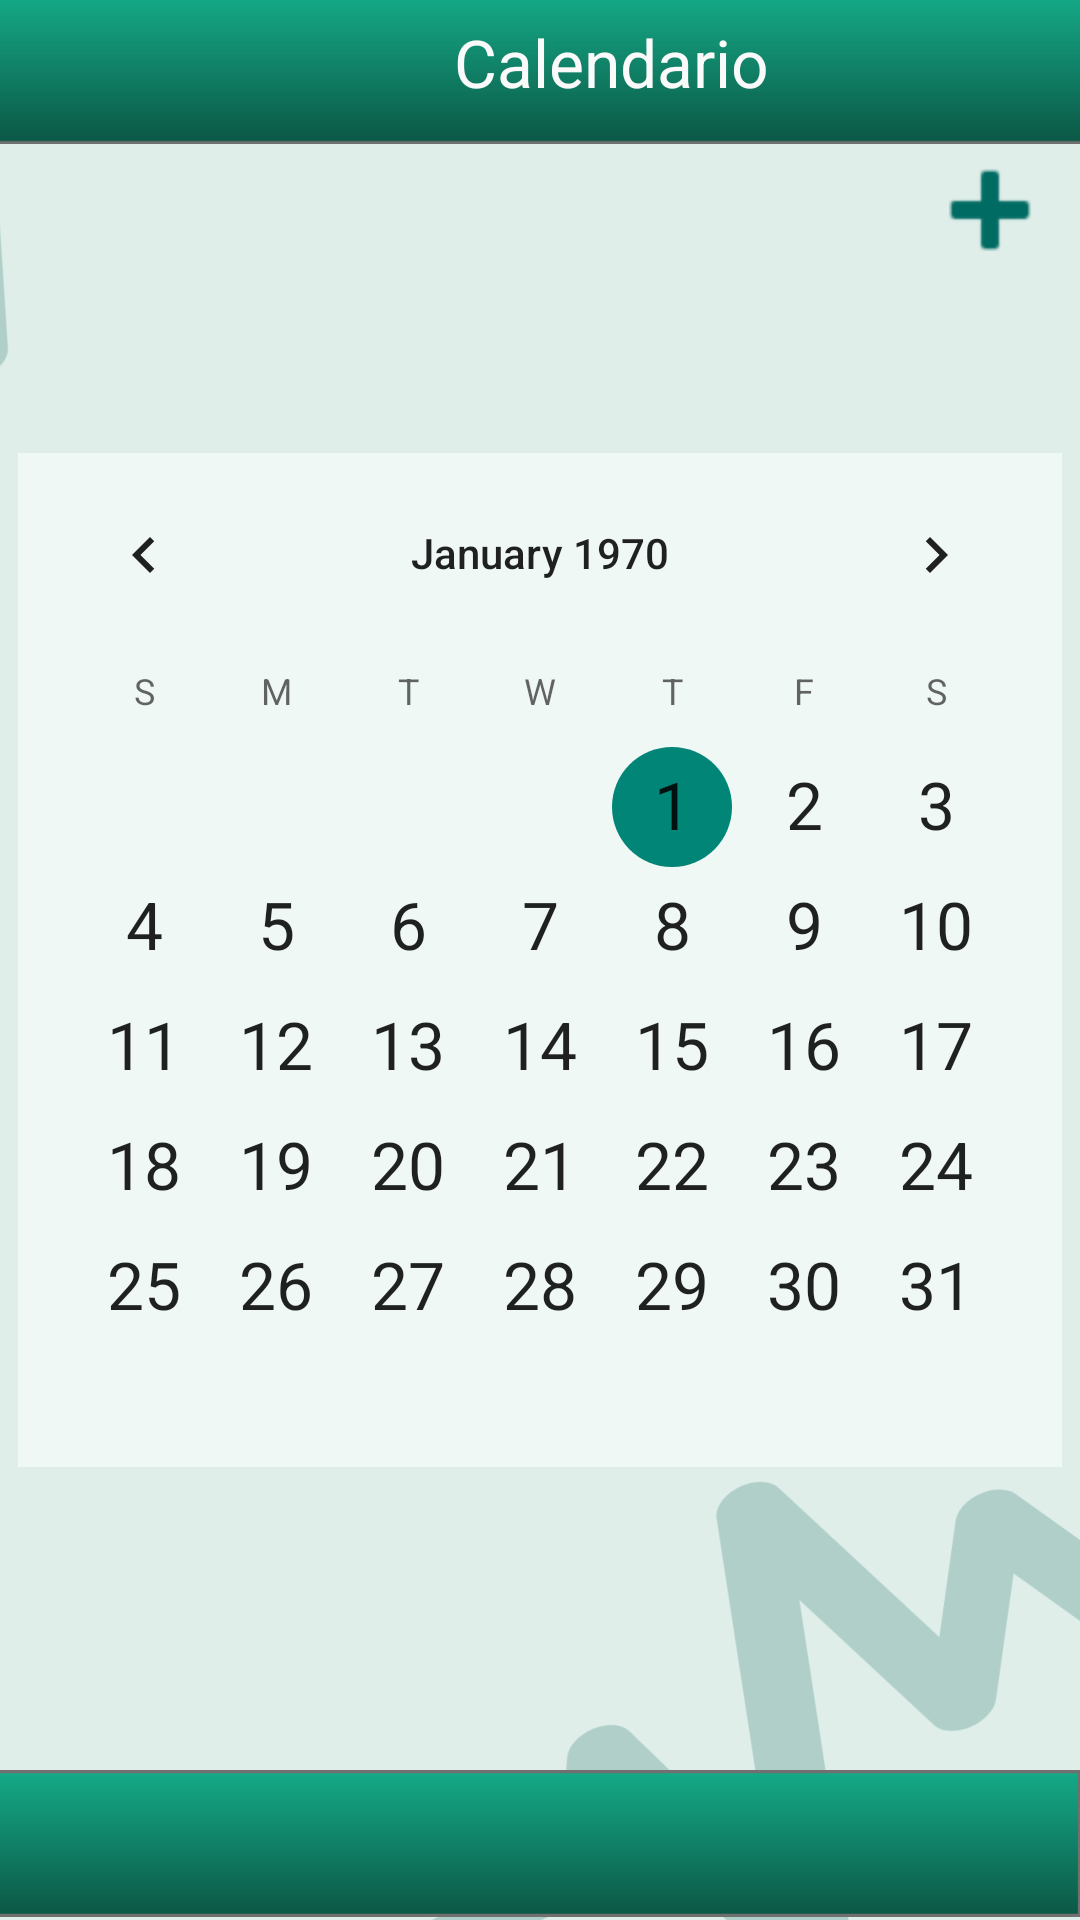

Screen size 1080w x 1920h. Icon name, then its center in pixels as [x,y]:
add: [990,210]
